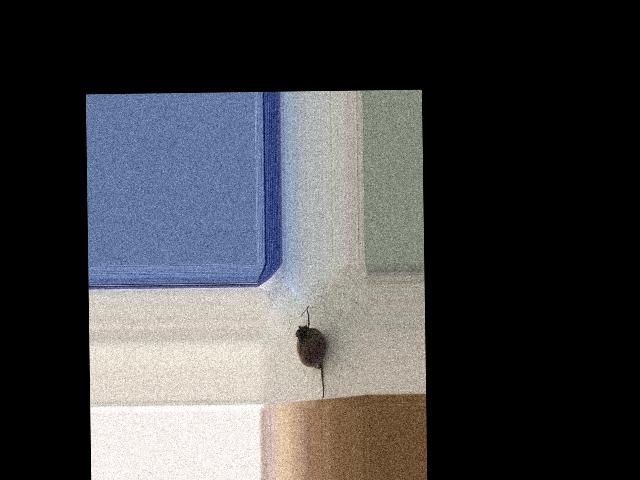beet: (295, 306, 326, 403)
